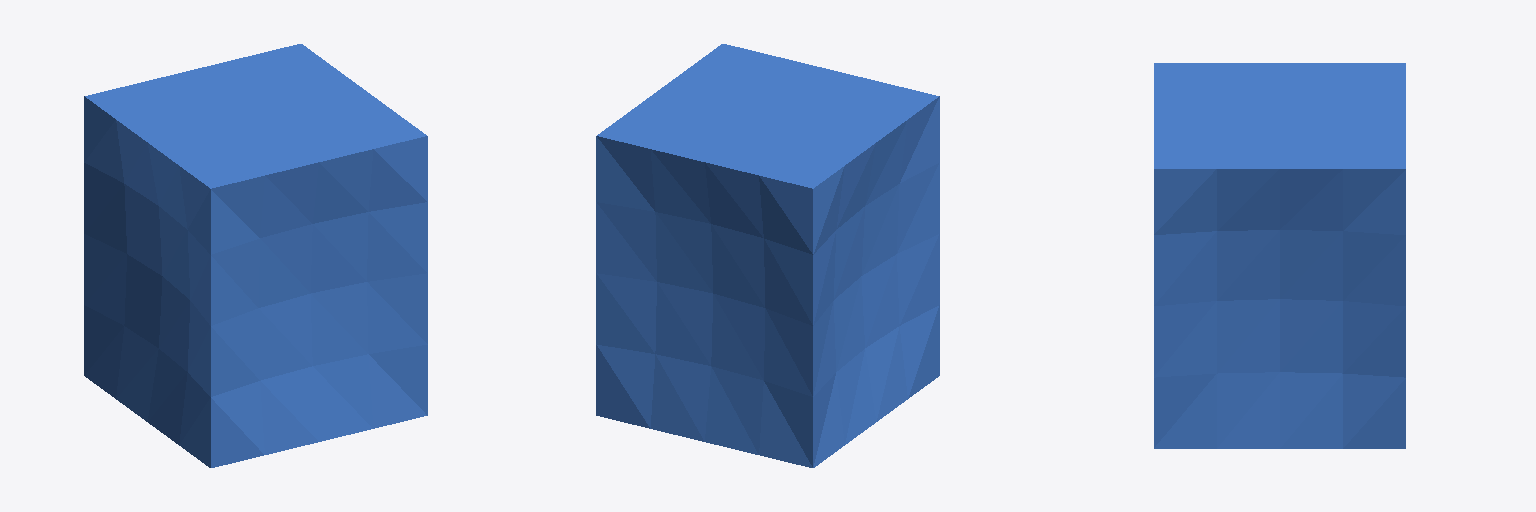
The model's file is soffi.obj.
The picture shows the model from 3 angles: view 1: azimuth 30°, elevation 25°; view 2: azimuth 150°, elevation 25°; view 3: azimuth 270°, elevation 25°; orthographic projection.
Parts seen in each view (by area): view 1: Box001; view 2: Box001; view 3: Box001.
Part boxes in pixels (x1,y1,x2,y2): Box001: (84,44,427,467); Box001: (596,44,939,467); Box001: (1154,63,1405,448).
Size of the model in its own units: 19.78 by 24.39 by 19.96.